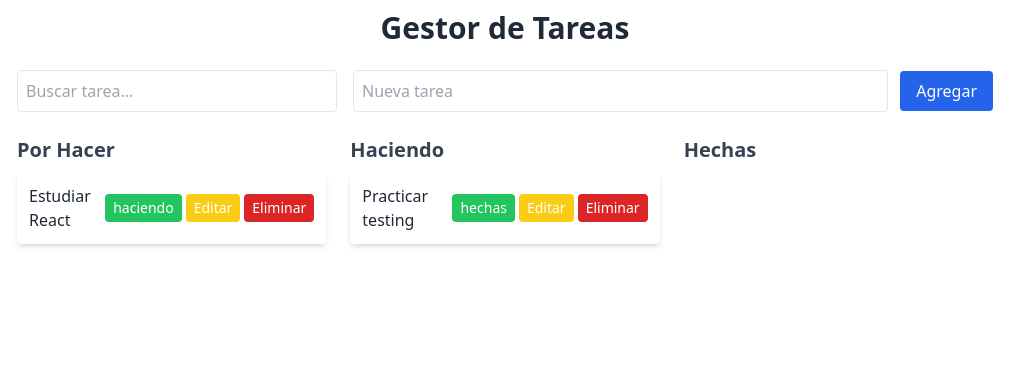
Todo App › permite eliminar una tarea existente
In the field with placeholder "Nueva tarea": (621, 91) [353, 70, 888, 112], type "Tarea para eliminar"
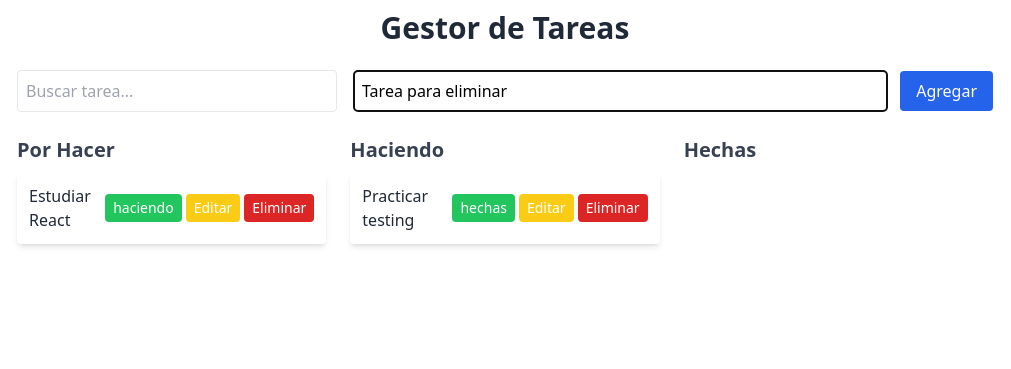
Click the button "Agregar": (947, 91) [900, 71, 993, 111]
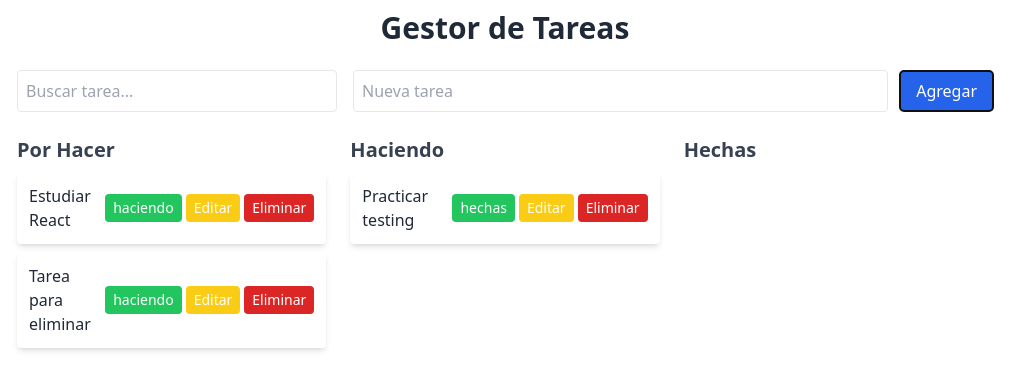
Expected: the text "Tarea para eliminar" is shown, [29, 264, 97, 336]
Expected: the button "Eliminar" below "Tarea para eliminar" is shown
Click the button "Eliminar" below "Tarea para eliminar": (279, 300) [244, 286, 314, 314]
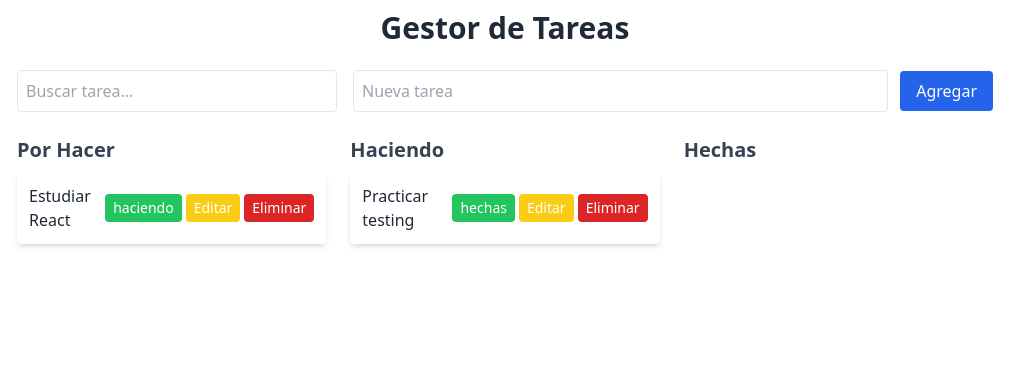
Expected: the text "Estudiar React" is shown, [29, 184, 97, 232]
Expected: the text "Tarea para eliminar" is gone
